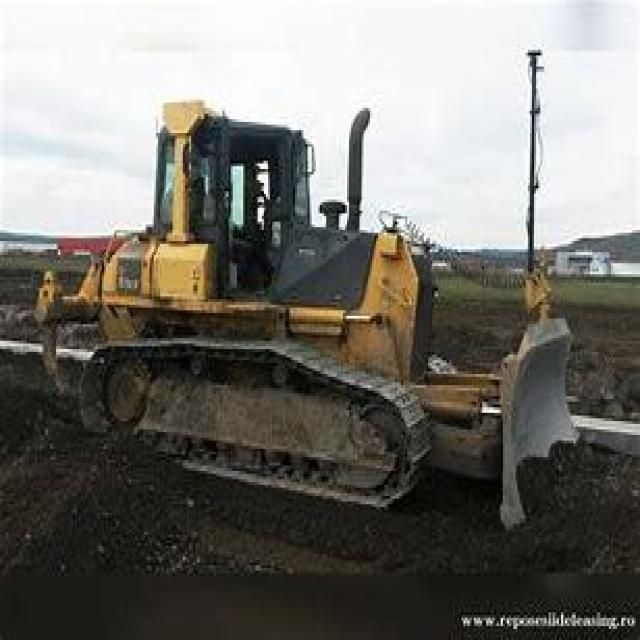Bulldozer: (35, 91, 590, 543)
